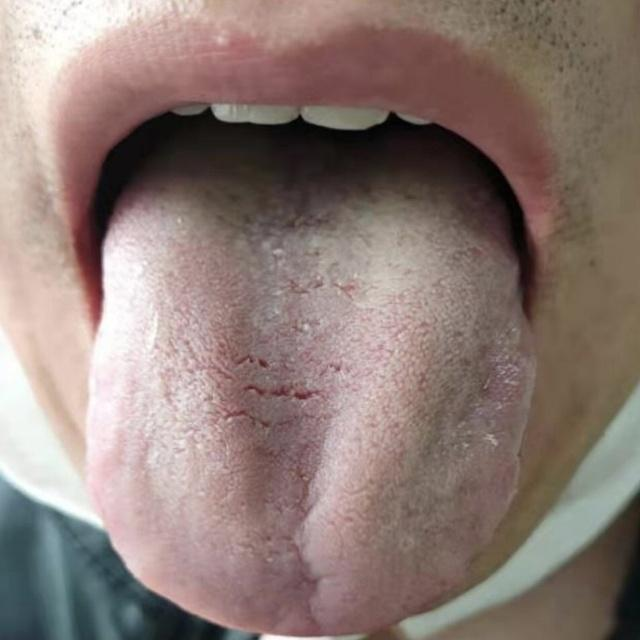baitaishe: (86, 125, 538, 640)
liewenshe: (288, 453, 327, 630), (226, 355, 329, 416)
piweiao: (224, 217, 377, 511)
